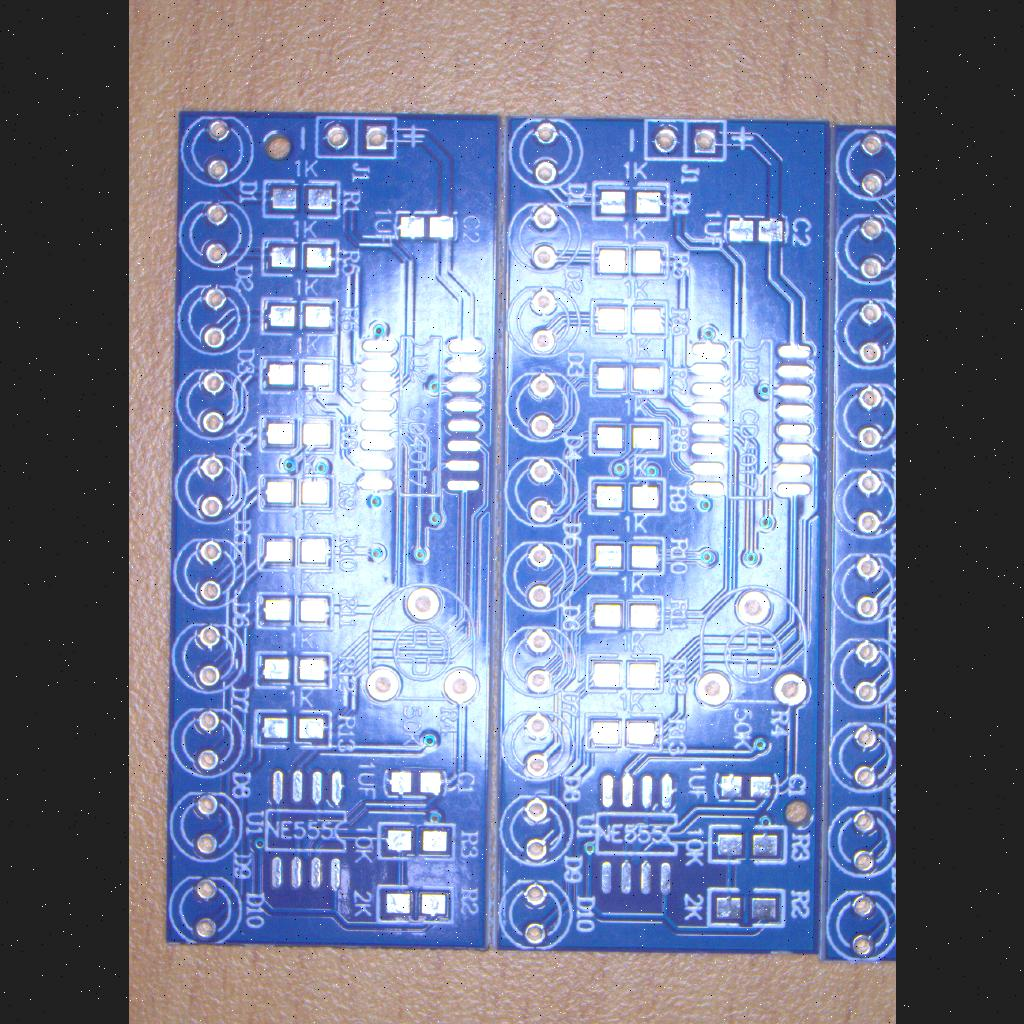NG: (349, 326, 489, 510), (682, 329, 822, 511), (588, 764, 682, 904), (260, 765, 354, 899), (584, 352, 672, 404), (700, 884, 790, 932), (258, 234, 344, 284), (582, 590, 670, 638), (704, 821, 790, 869), (584, 415, 670, 463), (252, 470, 338, 518), (248, 588, 336, 634), (259, 176, 347, 222), (584, 532, 668, 580), (589, 294, 673, 342), (588, 236, 672, 284), (582, 651, 668, 697), (250, 648, 336, 694), (252, 530, 338, 576), (582, 709, 666, 755), (589, 179, 673, 225), (372, 882, 456, 928), (372, 821, 458, 865), (250, 708, 336, 752), (584, 475, 668, 519), (253, 413, 341, 455), (254, 354, 338, 398), (256, 296, 344, 338), (387, 207, 463, 247), (710, 769, 784, 807), (378, 765, 450, 801), (720, 212, 790, 248)
OK: (644, 118, 728, 164)
